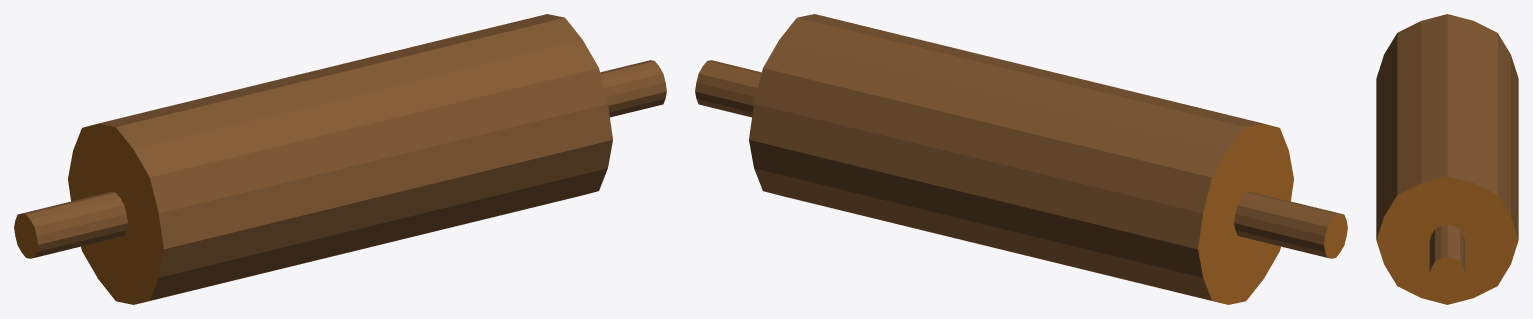
File: nudelkula.fbx
3 views of the same model, side by side, from view 1: azimuth 30°, elevation 25°; view 2: azimuth 150°, elevation 25°; view 3: azimuth 270°, elevation 25° (orthographic). The views are drawn at different scales.
Parts seen in each view (by area): view 1: nudelkula; view 2: nudelkula; view 3: nudelkula.
Part boxes in pixels (x1,y1,x2,y2): nudelkula: (14, 14, 666, 304); nudelkula: (695, 14, 1347, 304); nudelkula: (1376, 14, 1518, 304).
Bounding box in the file's own units: 52.49 × 13.88 × 13.88.
